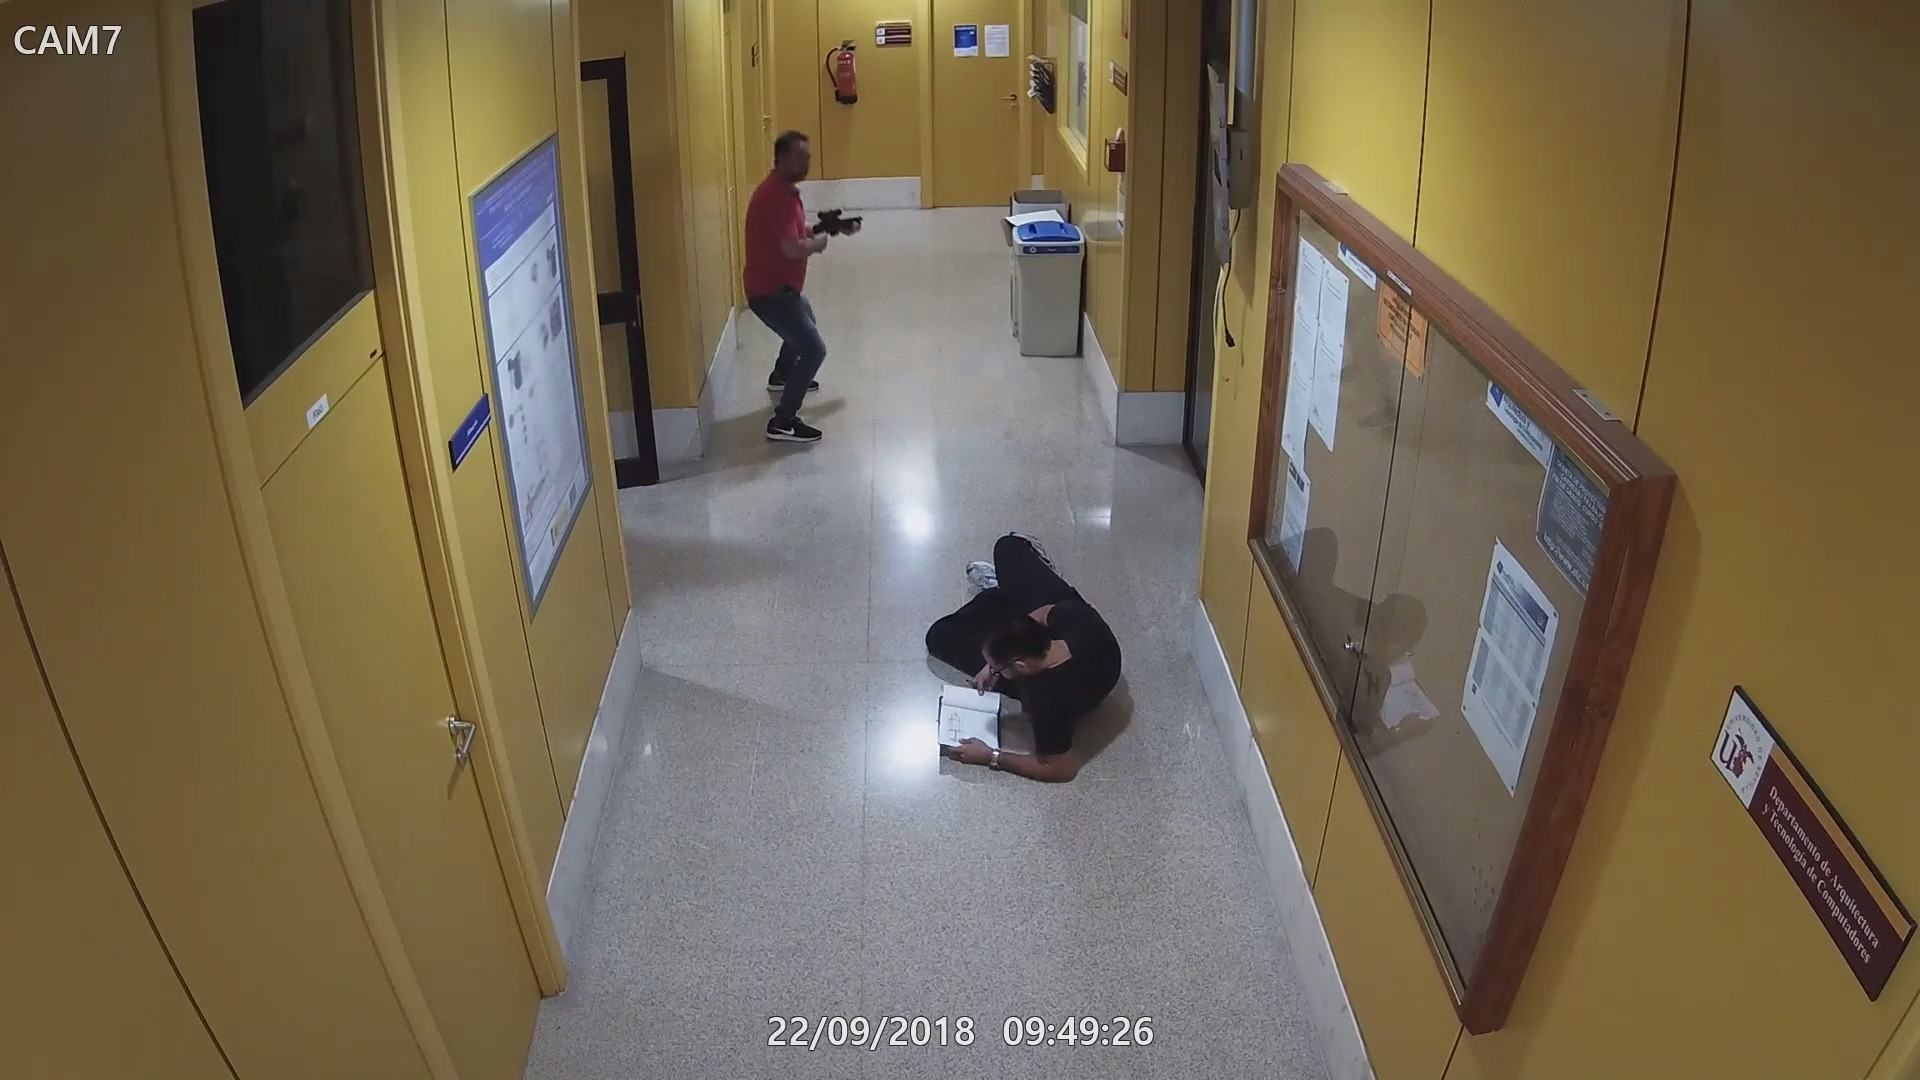Short_rifle: (810, 204, 869, 235)
